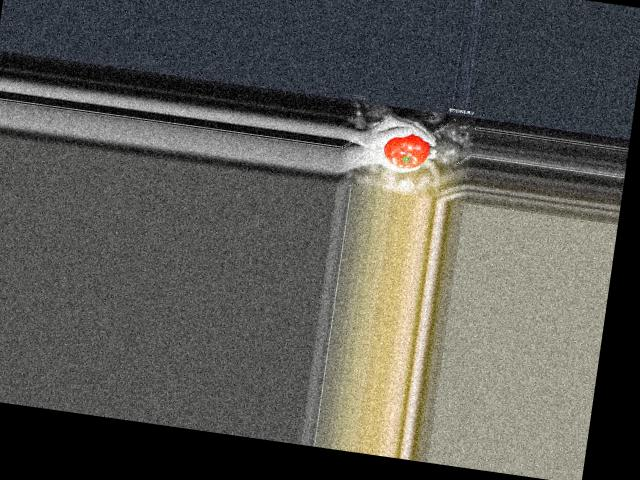tomato: (381, 130, 431, 171)
